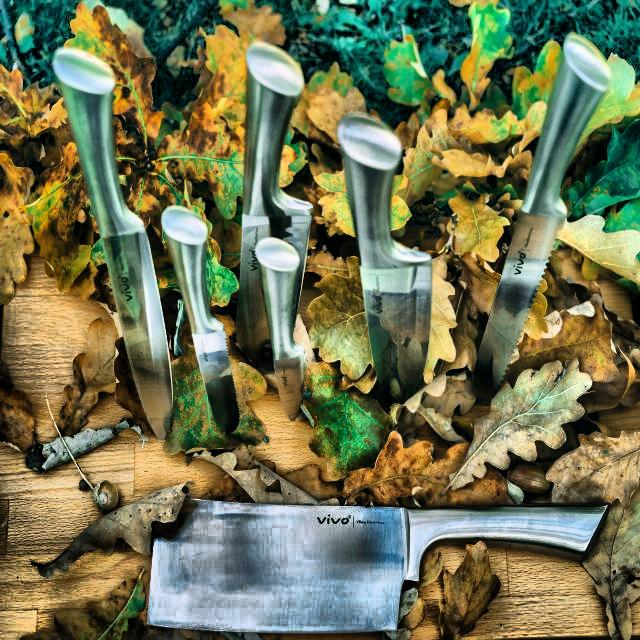knife: (144, 494, 618, 640), (46, 32, 186, 462), (470, 24, 616, 412), (337, 106, 450, 423), (162, 199, 252, 452), (248, 34, 280, 388), (258, 242, 309, 419)
